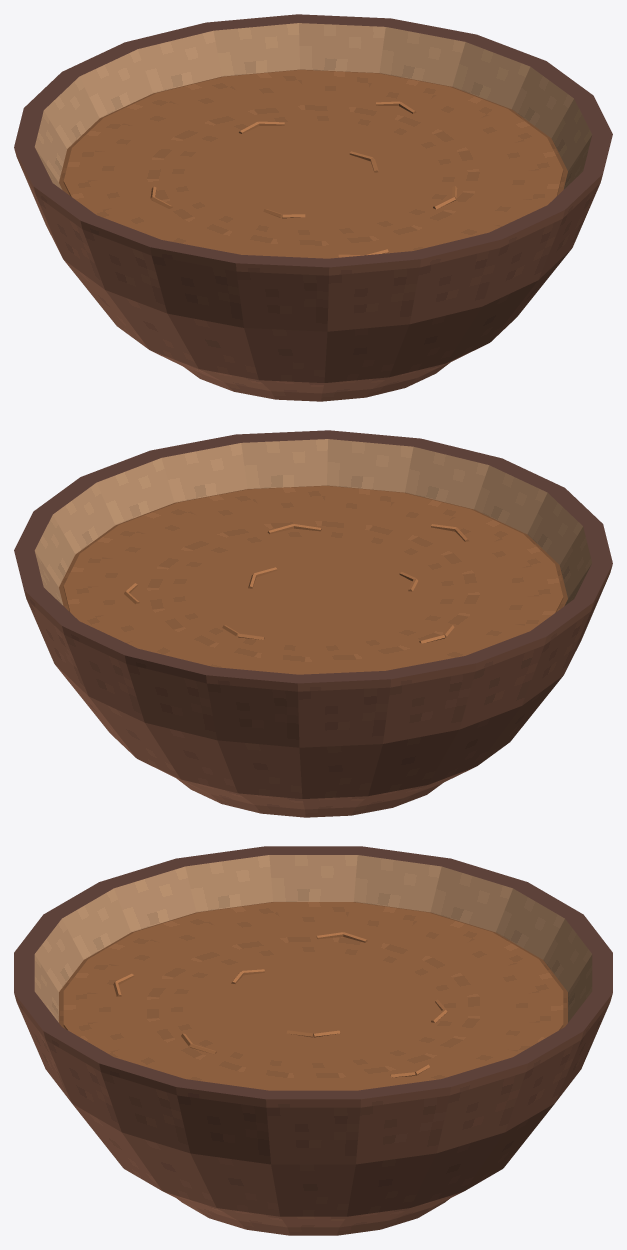
File: broth_meat.glb
The picture shows the model from 3 angles, top to bottom: view 1: azimuth 30°, elevation 25°; view 2: azimuth 150°, elevation 25°; view 3: azimuth 270°, elevation 25°; orthographic projection.
Visible parts, largest first — view 1: block_deep open soup bowl, block_soup surface, block_shaded liquid meniscus; view 2: block_deep open soup bowl, block_soup surface, block_shaded liquid meniscus; view 3: block_deep open soup bowl, block_soup surface, block_shaded liquid meniscus.
Boxes of the visible parts, <box> form: block_deep open soup bowl: <box>14,14,612,401</box>; block_soup surface: <box>63,70,563,258</box>; block_shaded liquid meniscus: <box>59,69,567,195</box>; block_deep open soup bowl: <box>14,430,612,817</box>; block_soup surface: <box>63,486,563,674</box>; block_shaded liquid meniscus: <box>59,485,567,611</box>; block_deep open soup bowl: <box>14,846,612,1235</box>; block_soup surface: <box>63,902,563,1090</box>; block_shaded liquid meniscus: <box>59,902,567,1028</box>.
Bounding box in the file's own units: 0.114 × 0.0423 × 0.114.
Materials: 1 (1 with a texture image).
